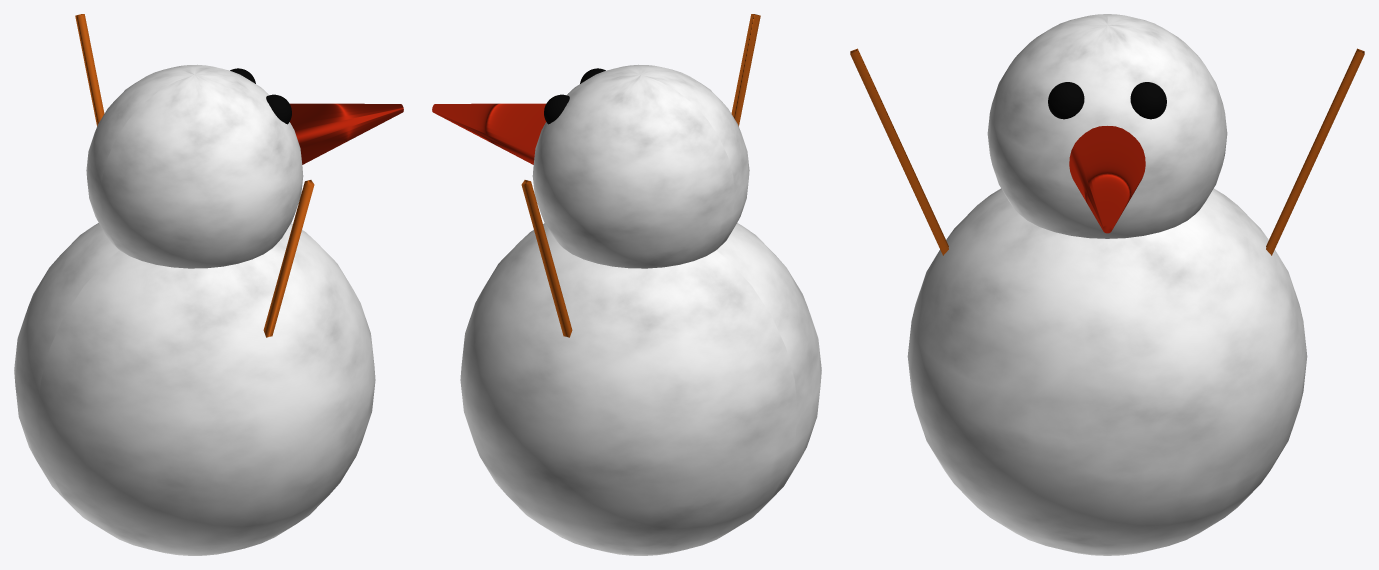
The model's file is player.obj.
3 renders of one model, left to right at view 1: azimuth 30°, elevation 25°; view 2: azimuth 150°, elevation 25°; view 3: azimuth 270°, elevation 25°, orthographic. The views are drawn at different scales.
Visible parts, largest first — view 1: 立方体; view 2: 立方体; view 3: 立方体.
Boxes of the visible parts, <box> form: 立方体: <box>14,14,403,555</box>; 立方体: <box>432,14,821,555</box>; 立方体: <box>850,14,1364,555</box>.
Bounding box in the file's own units: 1.16 × 1.41 × 1.29.
